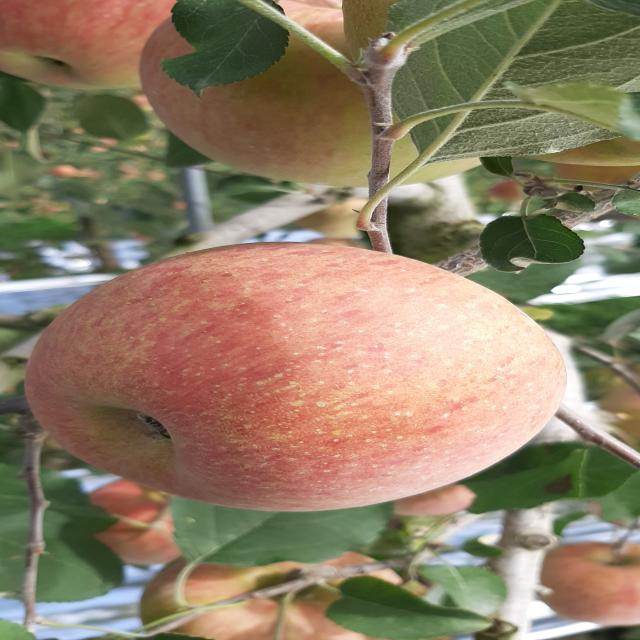fresh: (1, 235, 587, 519)
